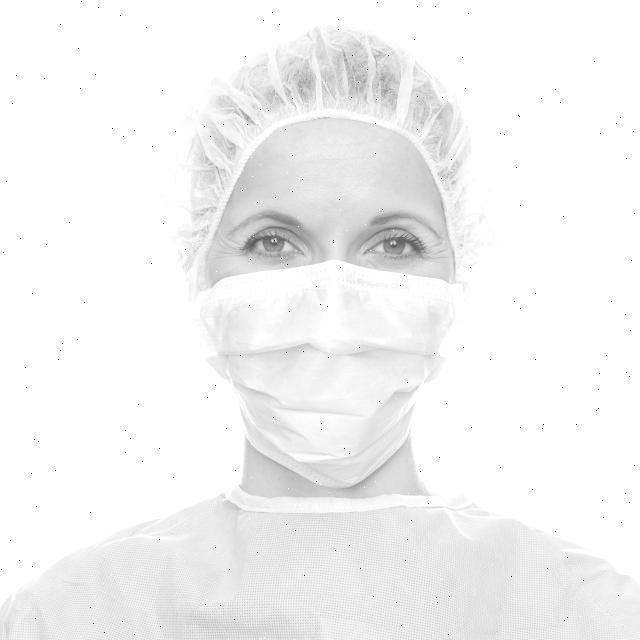fake: (164, 245, 492, 499)
real: (206, 115, 455, 498)
